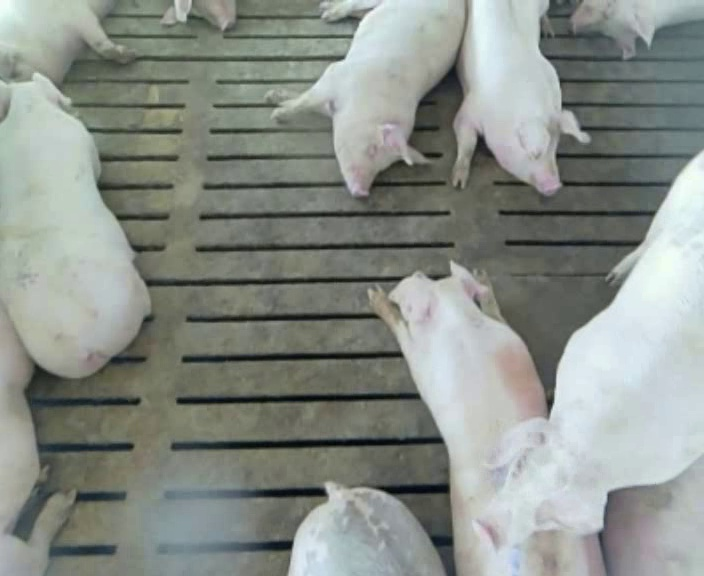pig: (477, 151, 703, 549), (369, 261, 602, 575), (263, 1, 464, 195), (452, 3, 589, 193), (288, 482, 445, 575), (602, 456, 703, 574), (571, 2, 703, 58)
